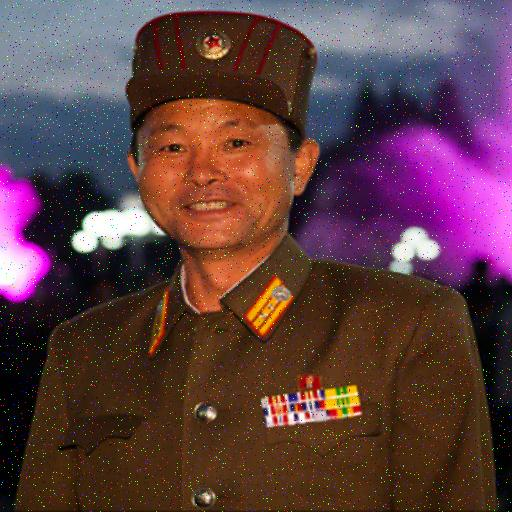north army: (38, 10, 512, 512)
